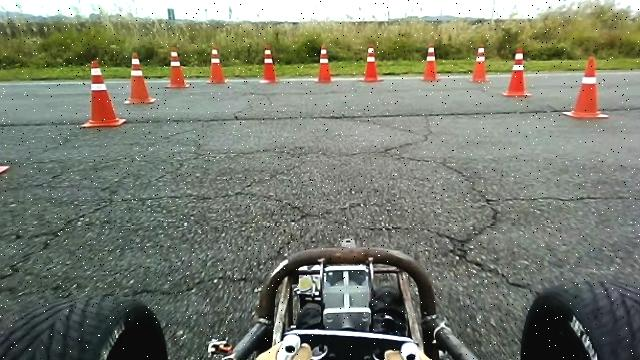red cone: (80, 60, 126, 127), (562, 56, 608, 118), (122, 51, 156, 104), (501, 47, 532, 96), (164, 49, 189, 88), (358, 45, 384, 82), (468, 45, 492, 83), (206, 47, 227, 84), (258, 45, 278, 83), (420, 44, 440, 81), (314, 44, 332, 83)
